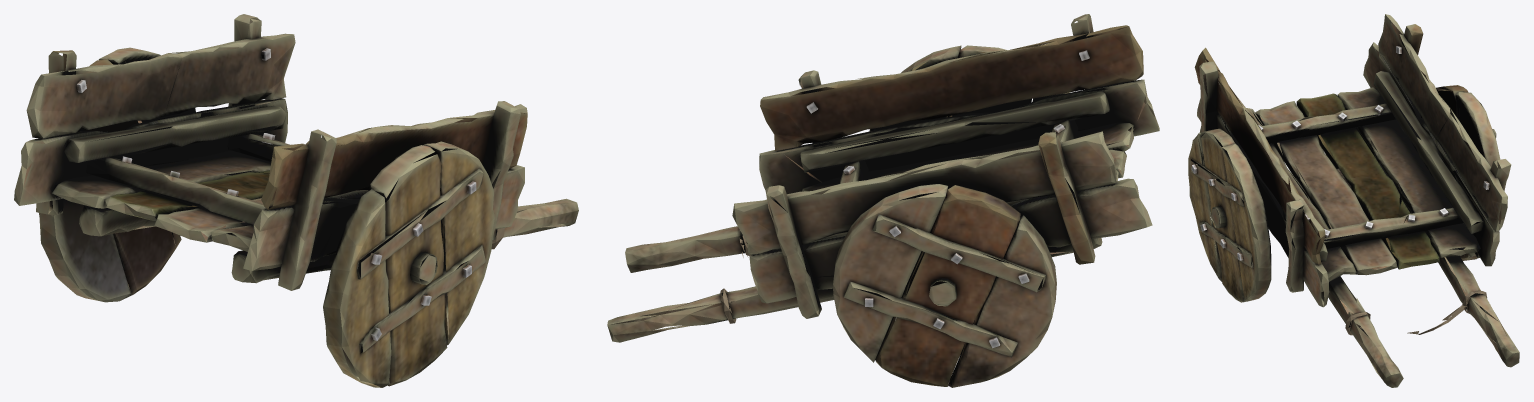
The model's file is fayre_cart.glb.
3 renders of one model, left to right at view 1: azimuth 30°, elevation 25°; view 2: azimuth 150°, elevation 25°; view 3: azimuth 270°, elevation 25°, orthographic. The views are drawn at different scales.
Parts seen in each view (by area): view 1: defaultMaterial.003; view 2: defaultMaterial.003; view 3: defaultMaterial.003.
Boxes of the visible parts, x1,y1,x2,y2 form: defaultMaterial.003: (14,14,578,387); defaultMaterial.003: (607,14,1159,387); defaultMaterial.003: (1188,14,1519,387).
Bounding box in the file's own units: 0.9732 × 0.4606 × 0.6999.
1 material, 1 textured.
